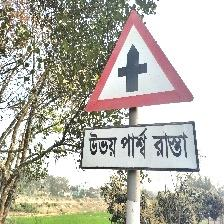Crossroad: (78, 6, 205, 171)
